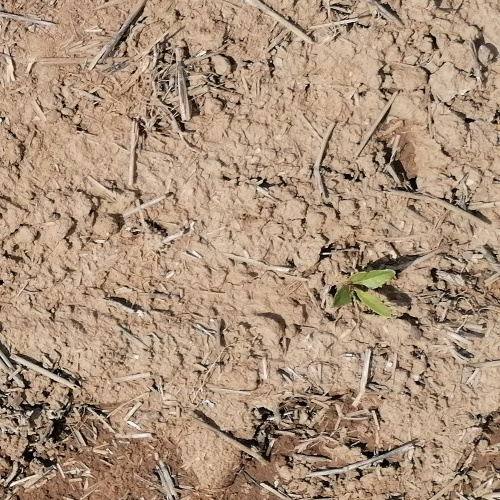beet: (331, 269, 396, 318)
